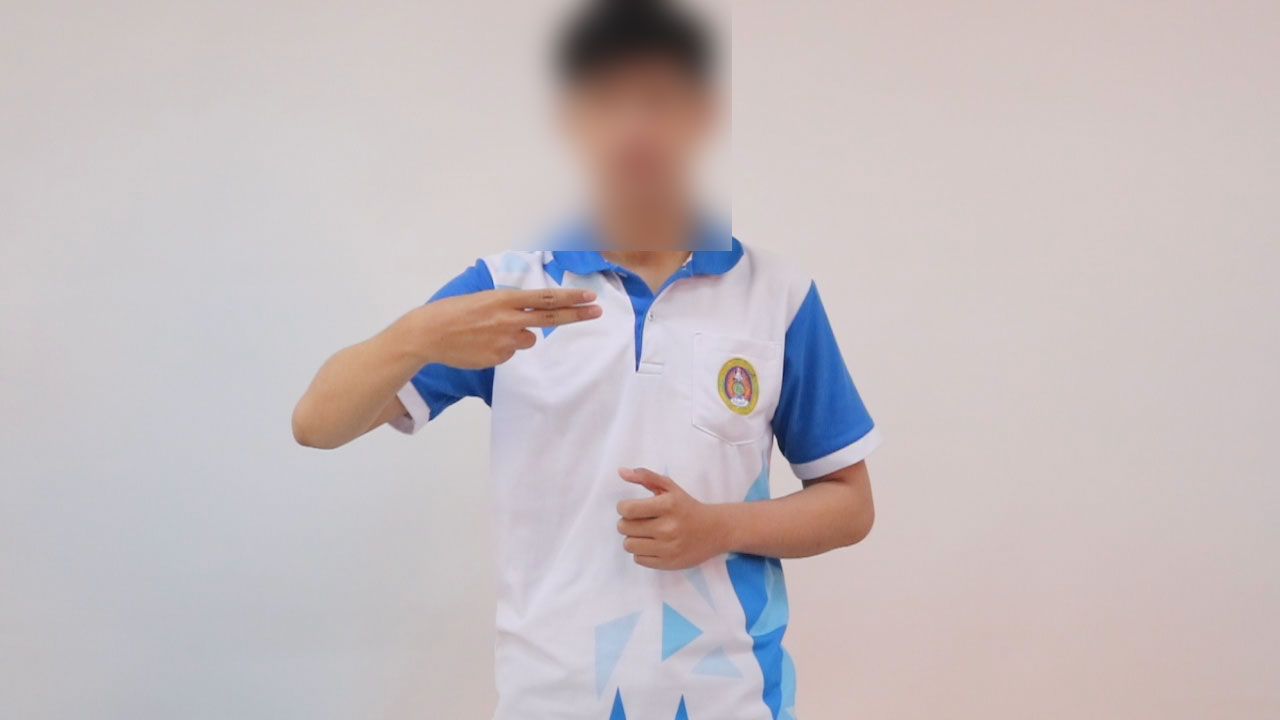hor: (391, 275, 613, 379)
